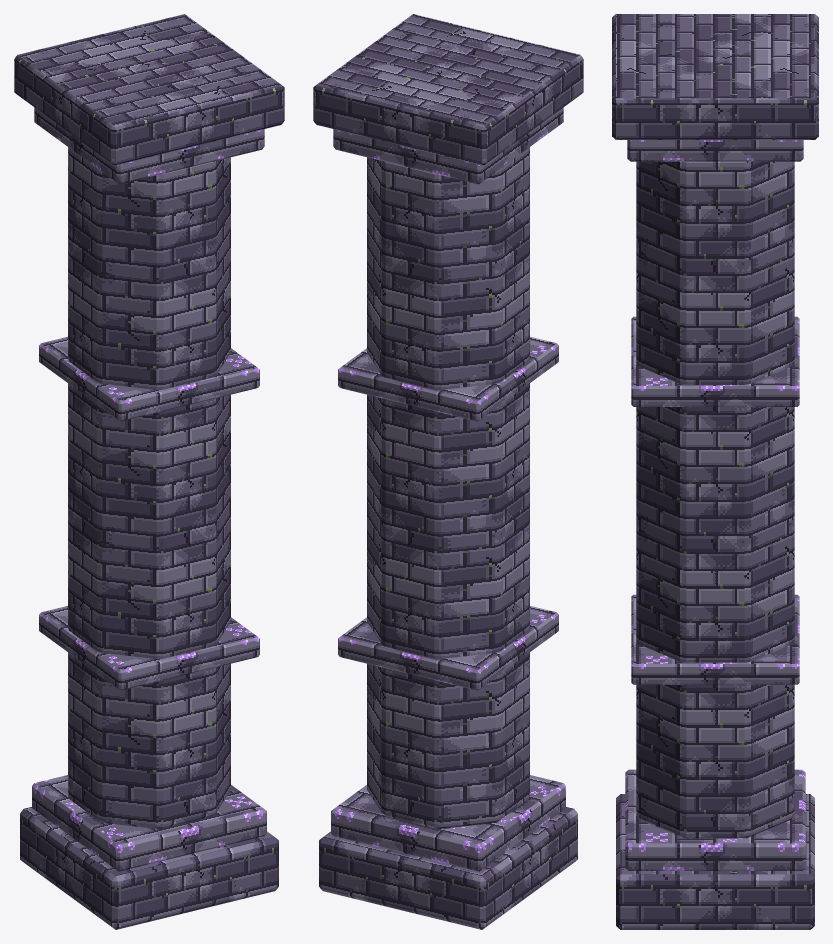
The model's file is tower_pillar.glb.
3 renders of one model, left to right at view 1: azimuth 30°, elevation 25°; view 2: azimuth 150°, elevation 25°; view 3: azimuth 270°, elevation 25°, orthographic. The views are drawn at different scales.
Visible parts, largest first — view 1: TowerPillar; view 2: TowerPillar; view 3: TowerPillar.
Boxes of the visible parts, left/top/right/bottom form: TowerPillar: left=14, top=14, right=284, bottom=929; TowerPillar: left=313, top=14, right=583, bottom=929; TowerPillar: left=612, top=14, right=818, bottom=929.
Bounding box in the file's own units: 2.7 × 12 × 2.7.
Materials: 2 (2 with a texture image).
